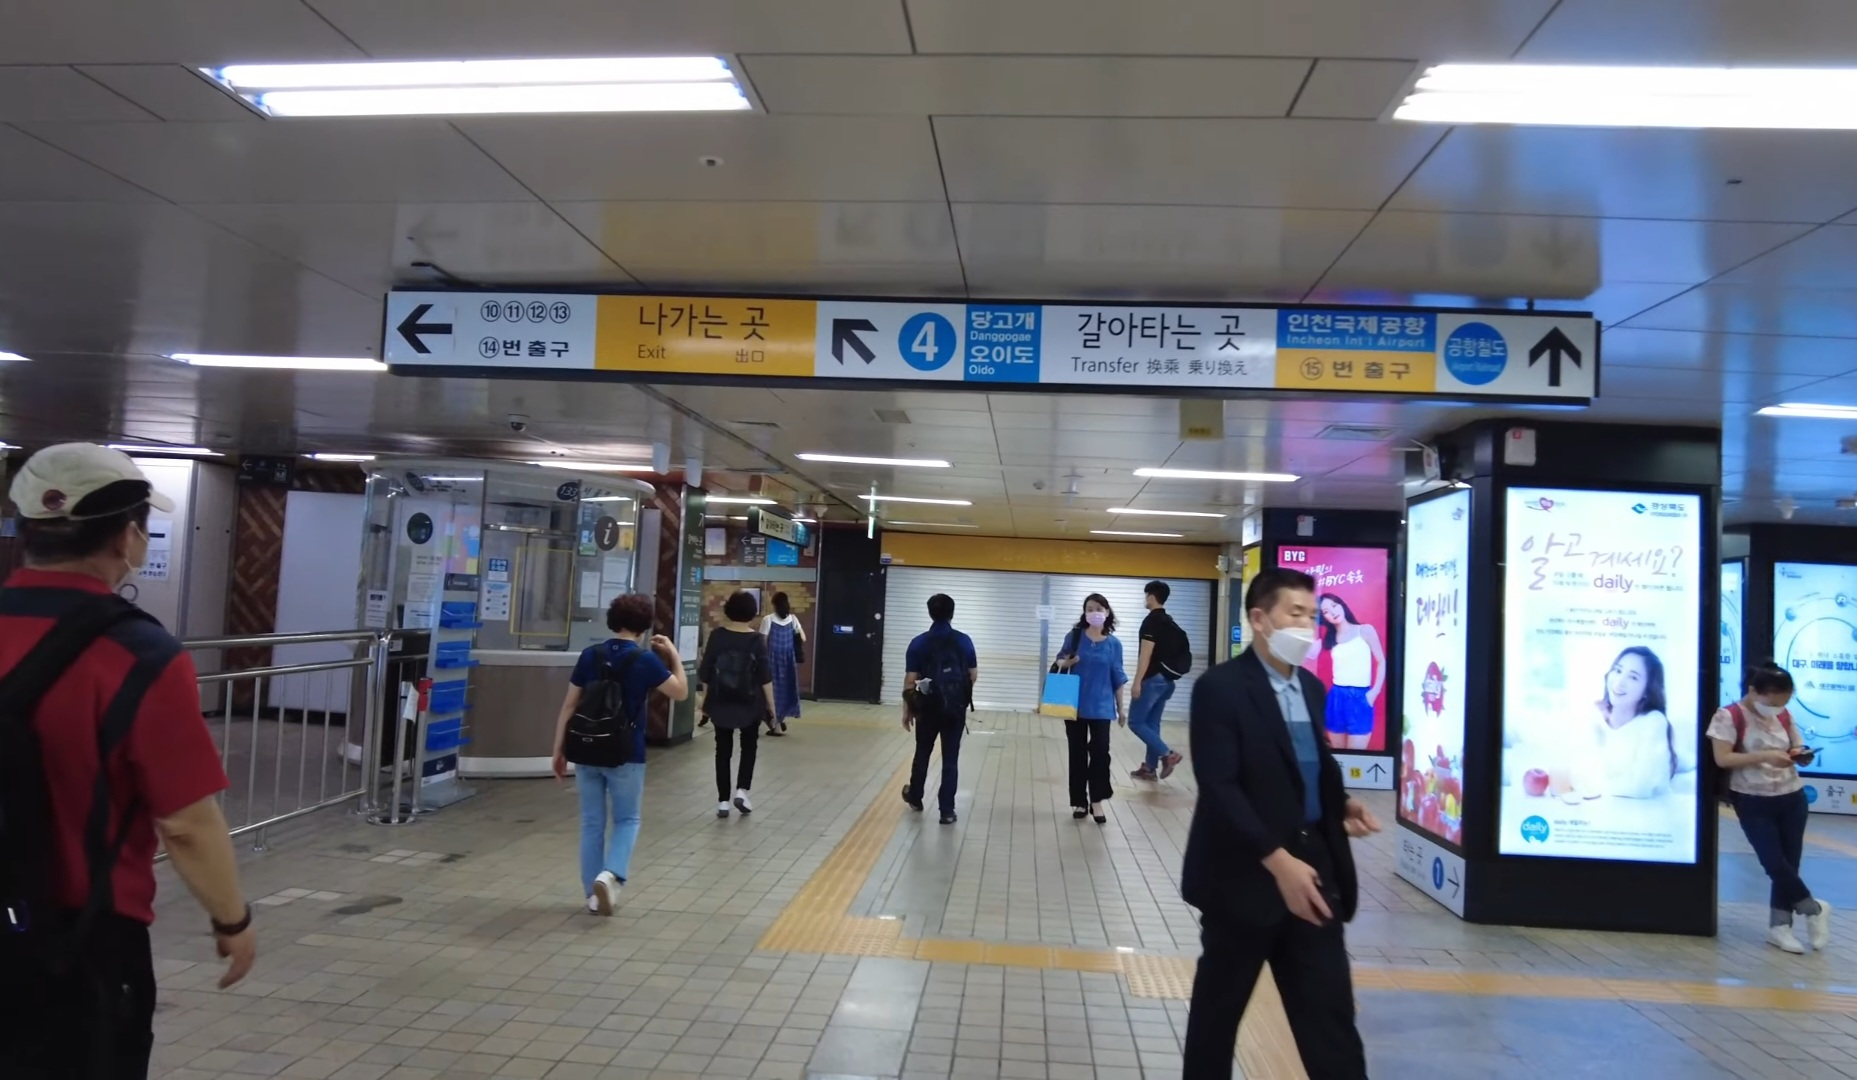signBoard: (369, 280, 1608, 417)
